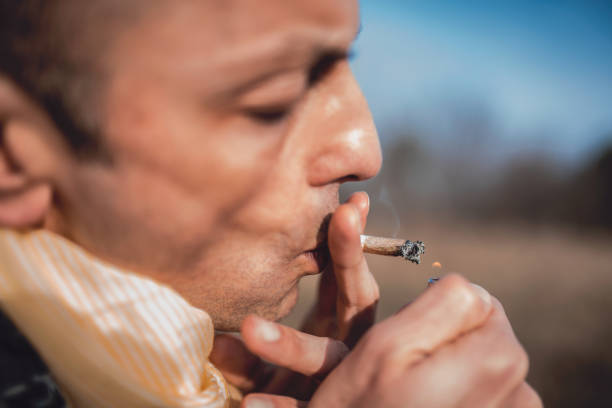cigarette: (359, 236, 426, 265)
